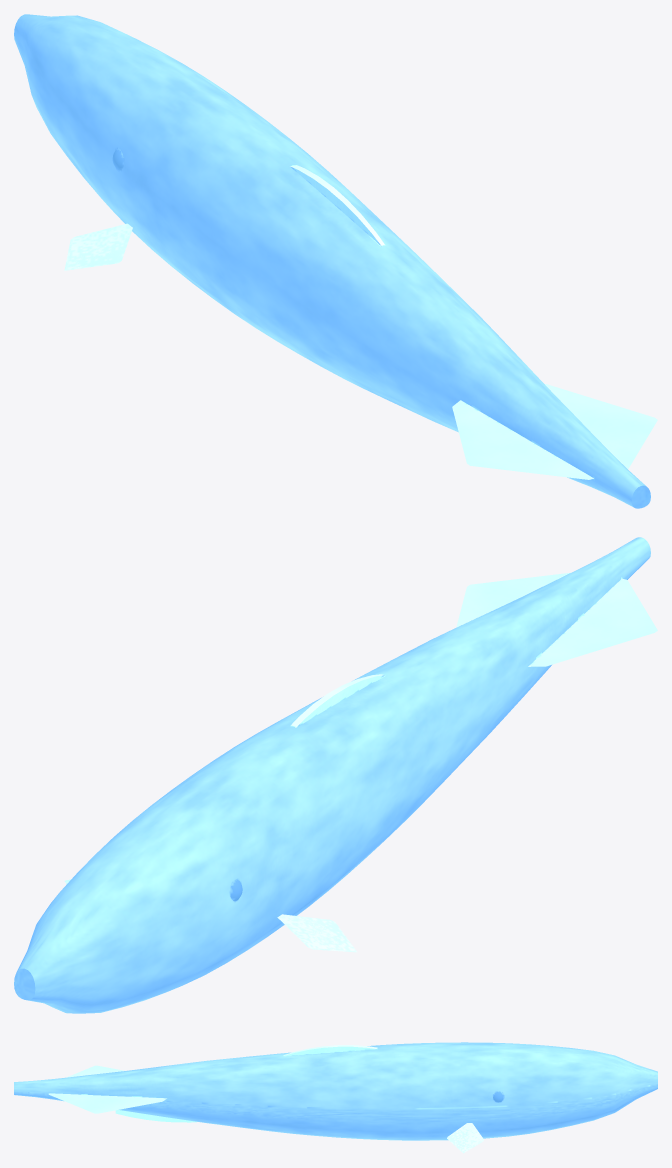
The model's file is bathypterois_grallator.glb.
3 renders of one model, top to bottom at view 1: azimuth 30°, elevation 25°; view 2: azimuth 150°, elevation 25°; view 3: azimuth 270°, elevation 25°, orthographic. The views are drawn at different scales.
Parts seen in each view (by area): view 1: bathypterois_grallator; view 2: bathypterois_grallator; view 3: bathypterois_grallator.
Part boxes in pixels (x1,y1,x2,y2): bathypterois_grallator: [14, 14, 657, 508]; bathypterois_grallator: [14, 537, 657, 1013]; bathypterois_grallator: [14, 1042, 657, 1153].
Size of the model in its own units: 0.2746 by 0.1576 by 1.
2 materials, 2 textured.
